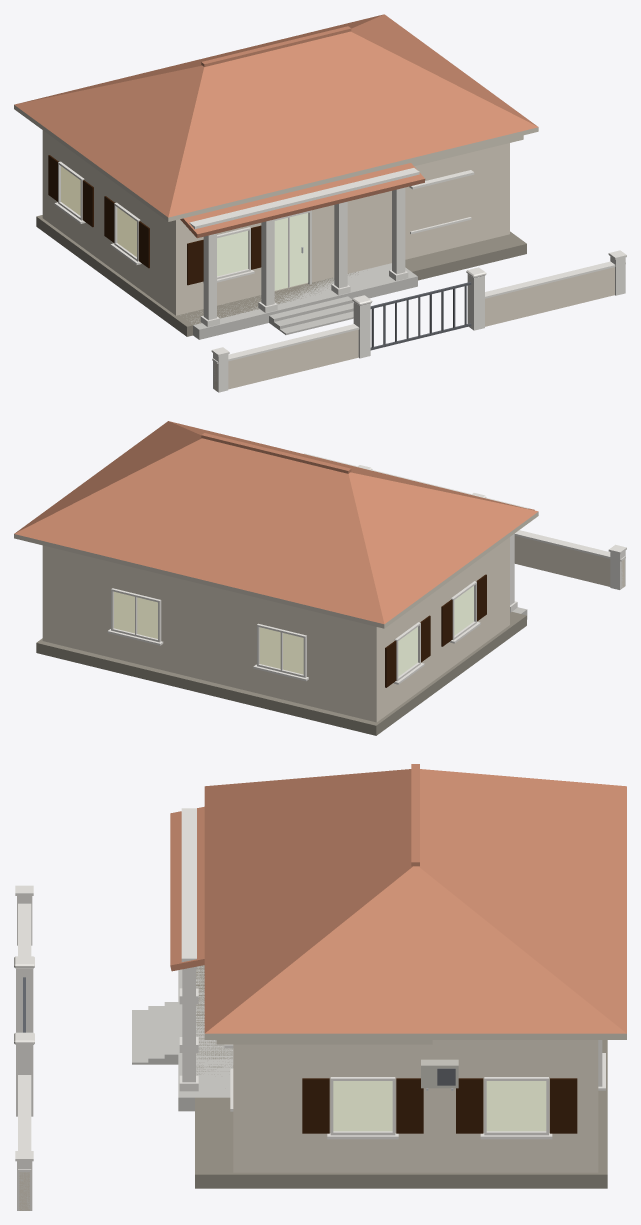
Rendered from SM_Villa_Coloniale.fbx.
3 views of the same model, one above another, from view 1: azimuth 30°, elevation 25°; view 2: azimuth 150°, elevation 25°; view 3: azimuth 270°, elevation 25° (orthographic). The views are drawn at different scales.
Visible parts, largest first — view 1: SM_Villa_Coloniale; view 2: SM_Villa_Coloniale; view 3: SM_Villa_Coloniale.
Part boxes in pixels (x1=…): SM_Villa_Coloniale: x1=14, y1=14, x2=626, y2=392; SM_Villa_Coloniale: x1=14, y1=421, x2=626, y2=735; SM_Villa_Coloniale: x1=14, y1=764, x2=626, y2=1210.
Bounding box in the file's own units: 1346 × 602 × 1277.
